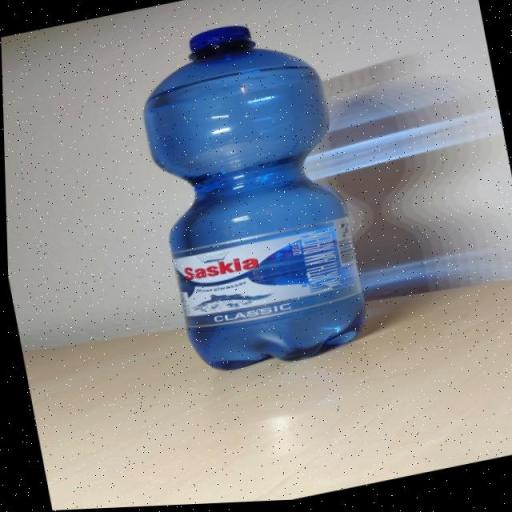plastic: (129, 10, 373, 386)
